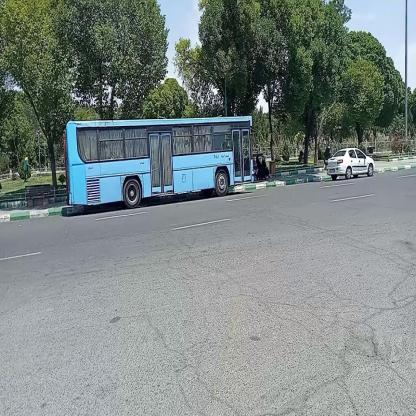Bus: (60, 112, 256, 215)
Car: (320, 146, 378, 182)
